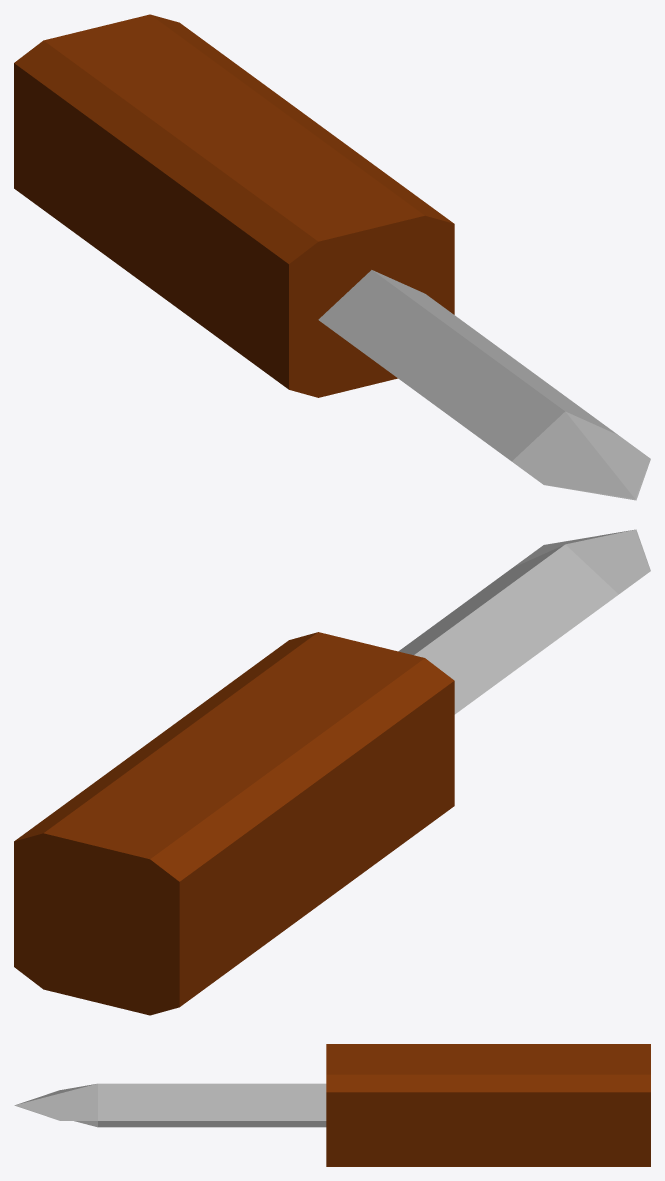
Rendered from knife.fbx.
3 renders of one model, top to bottom at view 1: azimuth 30°, elevation 25°; view 2: azimuth 150°, elevation 25°; view 3: azimuth 270°, elevation 25°, orthographic. The views are drawn at different scales.
Visible parts, largest first — view 1: Knife; view 2: Knife; view 3: Knife.
Boxes of the visible parts, <box> form: Knife: <box>14,14,650,500</box>; Knife: <box>14,529,650,1015</box>; Knife: <box>14,1044,650,1166</box>.
Bounding box in the file's own units: 69.55 × 62.7 × 393.
